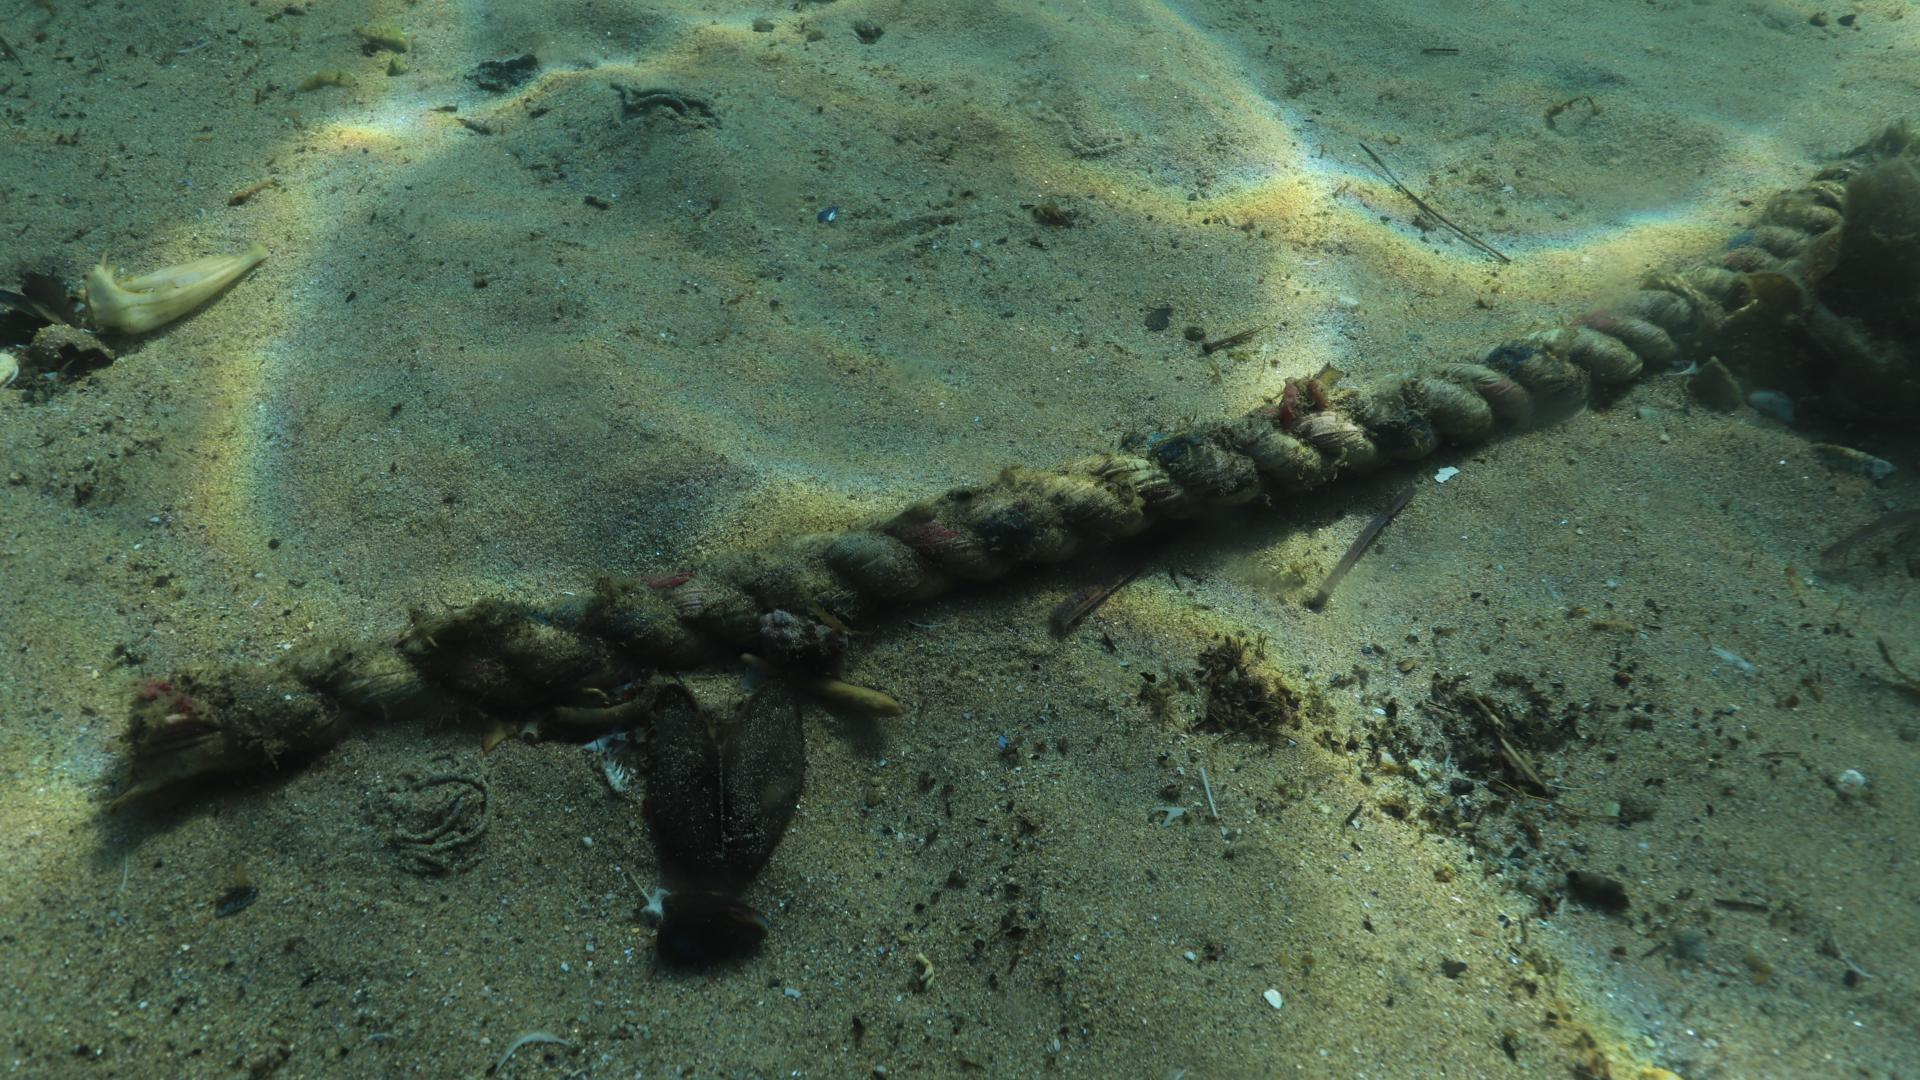rope: (198, 119, 1920, 781)
